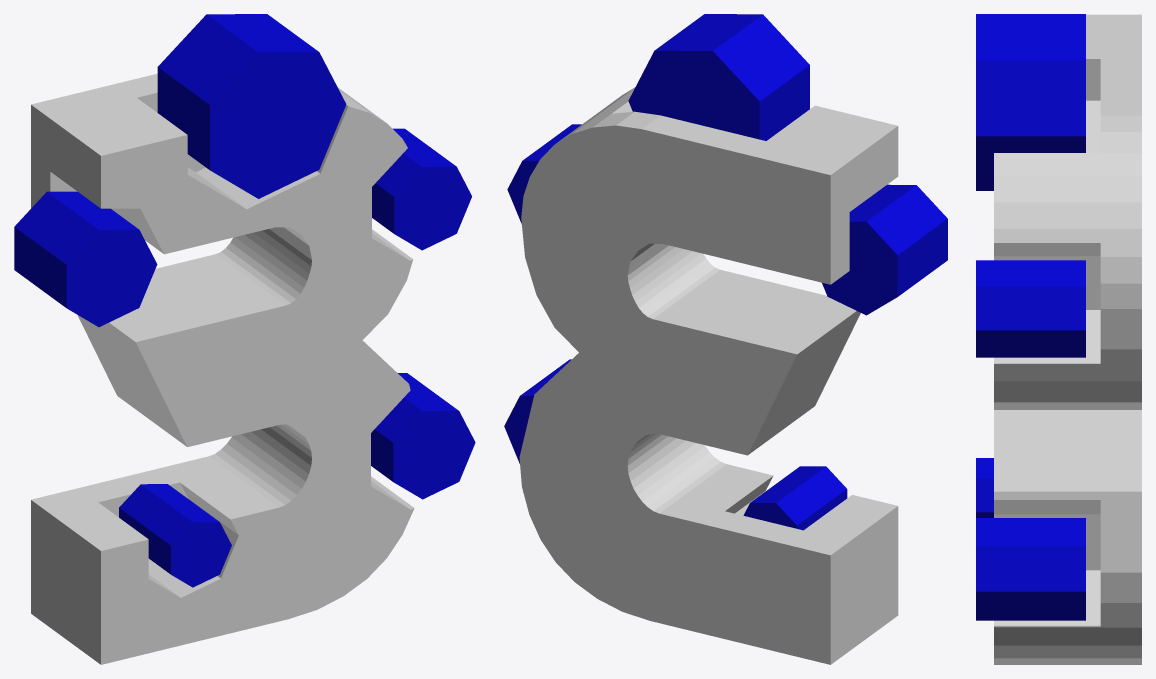
File: Ch_Lite_3_01.fbx
3 views of the same model, side by side, from view 1: azimuth 30°, elevation 25°; view 2: azimuth 150°, elevation 25°; view 3: azimuth 270°, elevation 25° (orthographic). The views are drawn at different scales.
Visible parts, largest first — view 1: sphere1; view 2: sphere1; view 3: sphere1.
Part boxes in pixels (bbox=[...]): sphere1: bbox=[14, 14, 475, 664]; sphere1: bbox=[504, 14, 947, 664]; sphere1: bbox=[976, 14, 1141, 664].
Size of the model in its own units: 0.6728 by 0.9152 by 0.2242.
